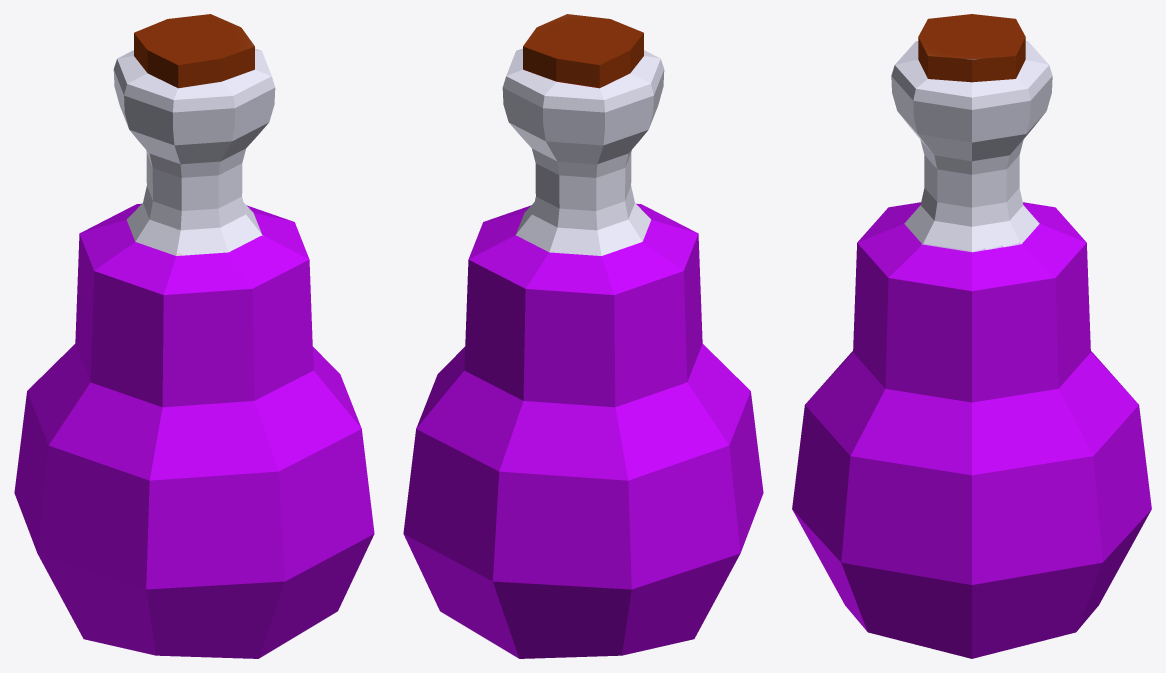
Rendered from DefencePotion.fbx.
3 views of the same model, side by side, from view 1: azimuth 30°, elevation 25°; view 2: azimuth 150°, elevation 25°; view 3: azimuth 270°, elevation 25° (orthographic).
Visible parts, largest first — view 1: Cube; view 2: Cube; view 3: Cube.
Part boxes in pixels (x1,y1,x2,y2): Cube: [14, 14, 374, 658]; Cube: [403, 14, 763, 658]; Cube: [792, 14, 1151, 658].
Size of the model in its own units: 80.23 by 80.23 by 149.
Materials: 1 (1 with a texture image).
